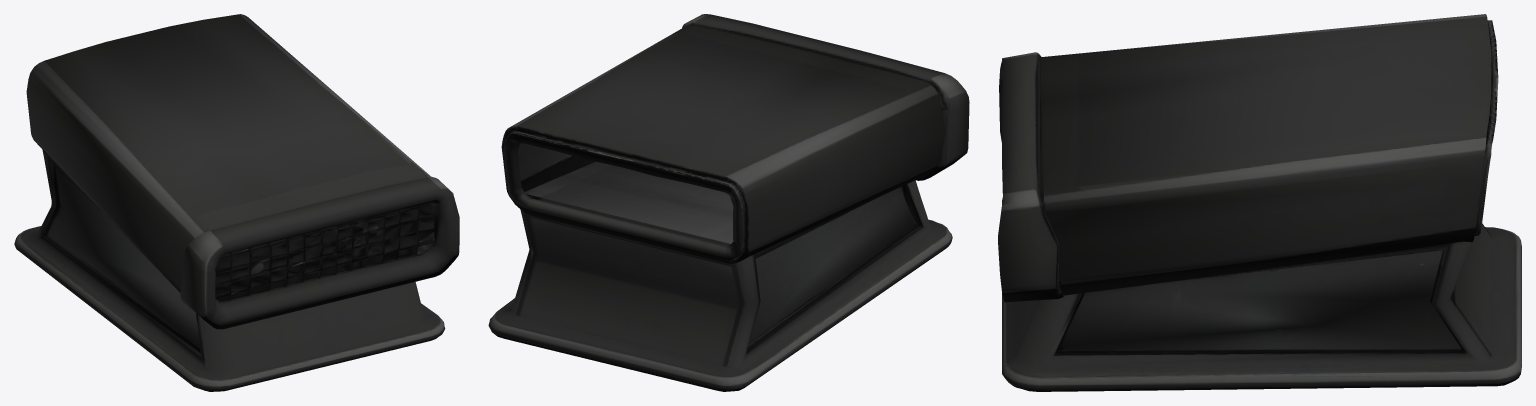
The model's file is bison-big_engine.glb.
The picture shows the model from 3 angles, left to right: view 1: azimuth 30°, elevation 25°; view 2: azimuth 150°, elevation 25°; view 3: azimuth 270°, elevation 25°; orthographic projection. The views are drawn at different scales.
Visible parts, largest first — view 1: tripo_node_eccce103-b970-46fd-ae41-44c35c3ac9de; view 2: tripo_node_eccce103-b970-46fd-ae41-44c35c3ac9de; view 3: tripo_node_eccce103-b970-46fd-ae41-44c35c3ac9de.
Boxes of the visible parts, left/top/right/bottom form: tripo_node_eccce103-b970-46fd-ae41-44c35c3ac9de: left=14, top=14, right=459, bottom=391; tripo_node_eccce103-b970-46fd-ae41-44c35c3ac9de: left=488, top=14, right=969, bottom=391; tripo_node_eccce103-b970-46fd-ae41-44c35c3ac9de: left=998, top=14, right=1521, bottom=391.
Bounding box in the file's own units: 0.5893 × 0.42 × 0.816.
Materials: 1 (1 with a texture image).
